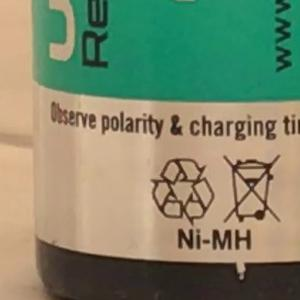NI-MH: (168, 219, 261, 260)
